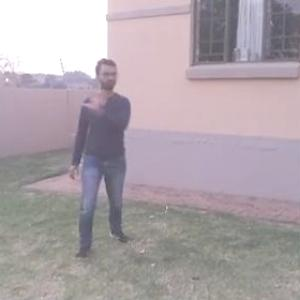follow_hand: (79, 84, 105, 114)
